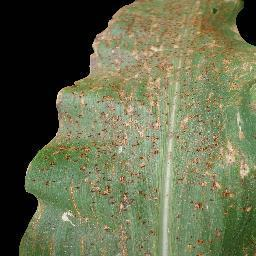Corn_Common_Rust: (134, 0, 256, 256), (84, 0, 133, 256), (16, 80, 83, 256)
